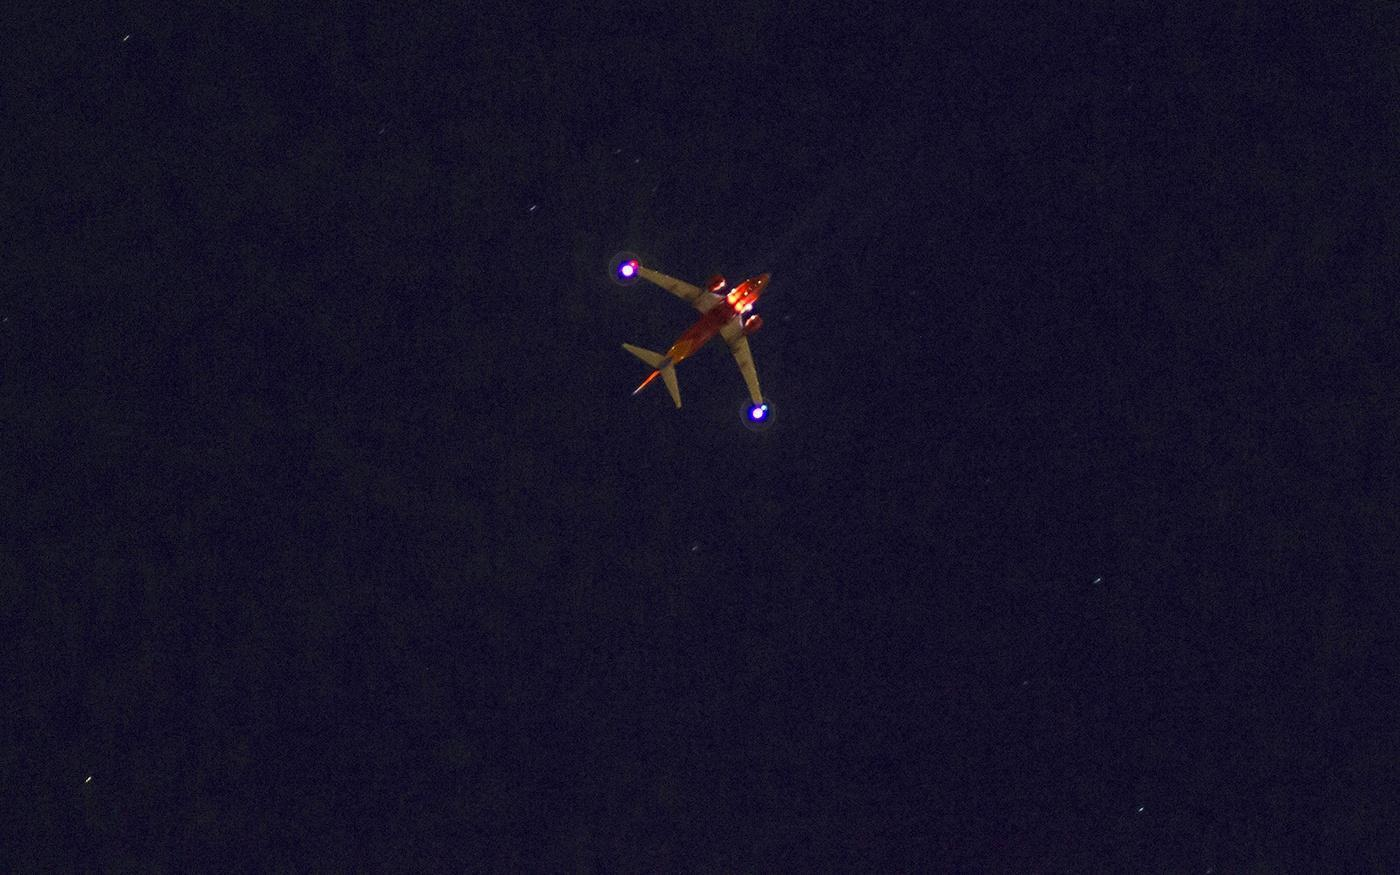Plane: (545, 238, 823, 447)
